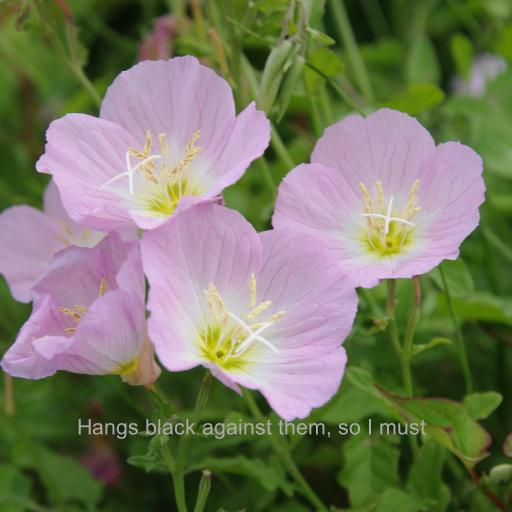Arial: (76, 419, 426, 439)
